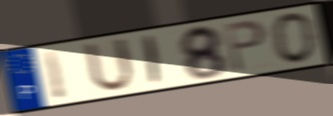8: (177, 24, 230, 82)
I: (41, 48, 69, 103), (143, 33, 162, 88)
O: (270, 10, 319, 66)
P: (222, 18, 269, 75)
U: (81, 37, 136, 94)
